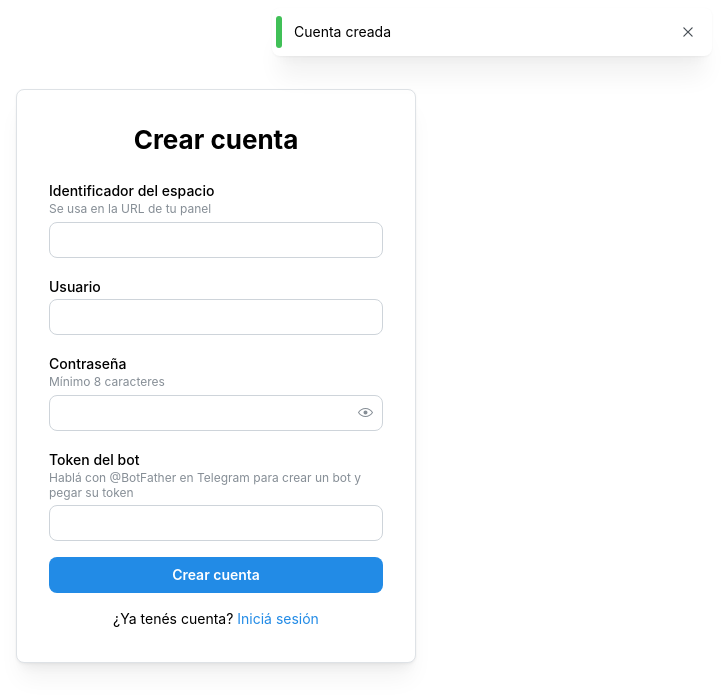
SignupPage › 409 que menciona slug muestra el error junto al campo slug
Step 1. Type "acme" into the field labelled "Identificador del espacio" → (216, 240), box [49,222,383,258]
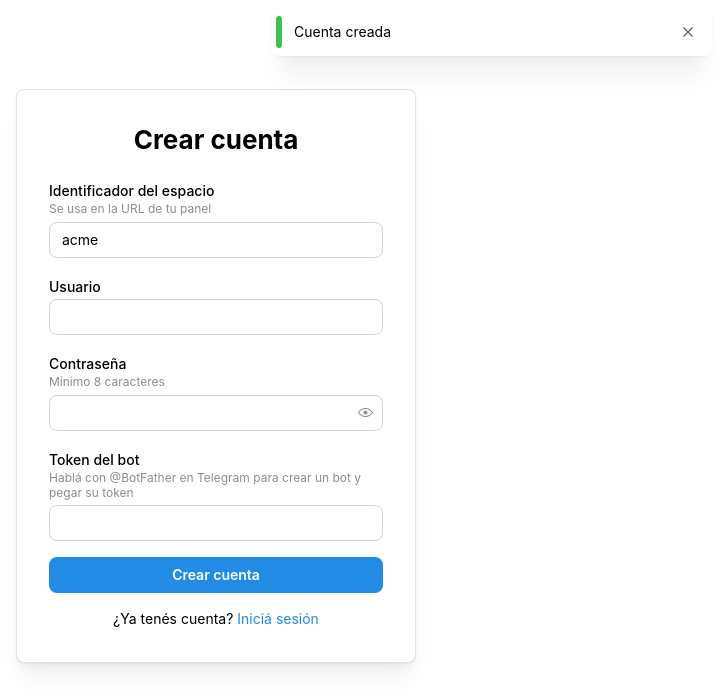
Step 2. Type "juan" into the field labelled "Usuario" → (216, 316), box [49,298,383,334]
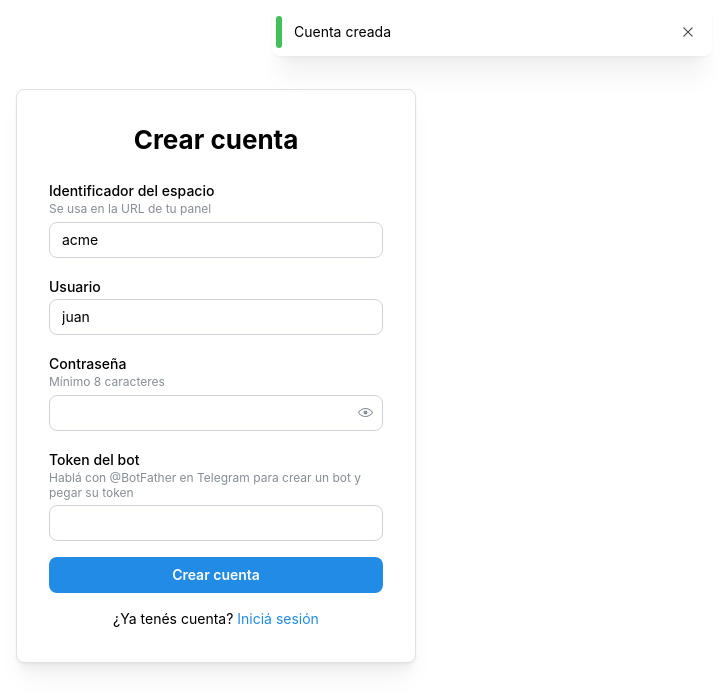
Step 3. Type "secreto123" into the password field labelled "Contraseña" → (216, 413), box [50,396,382,430]
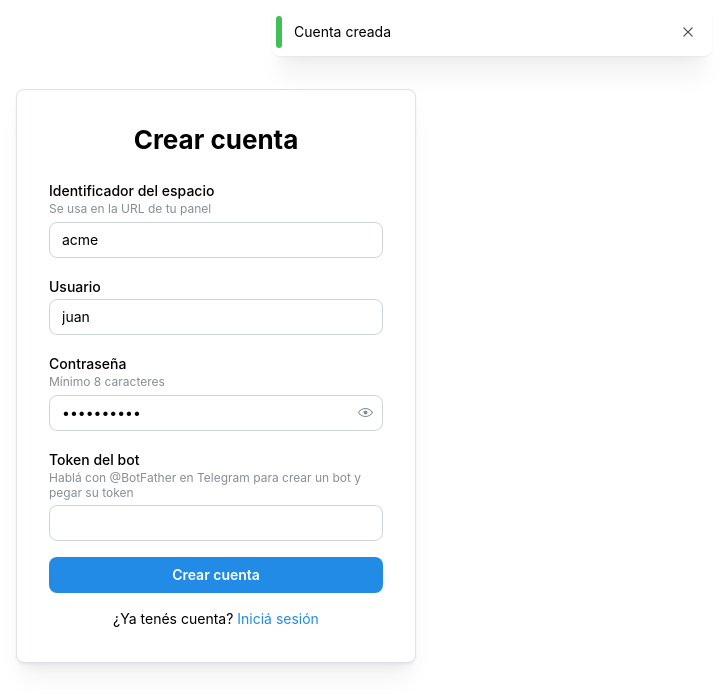
Step 4. Type "SIGNUP_BOT_TOKEN_EXAMPLE" into the field labelled "Token del bot" → (216, 523), box [49,505,383,541]
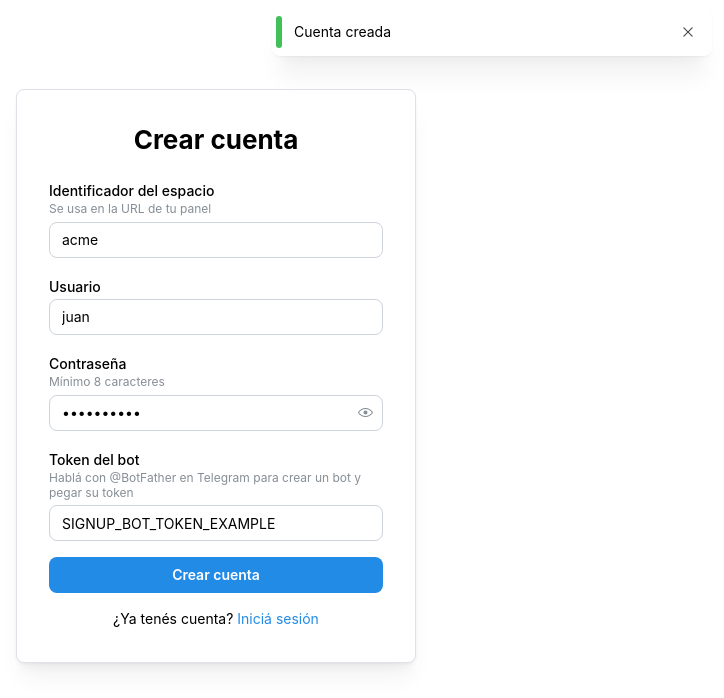
Step 5. Click the button "Crear cuenta" → (216, 575), box [49,557,383,593]
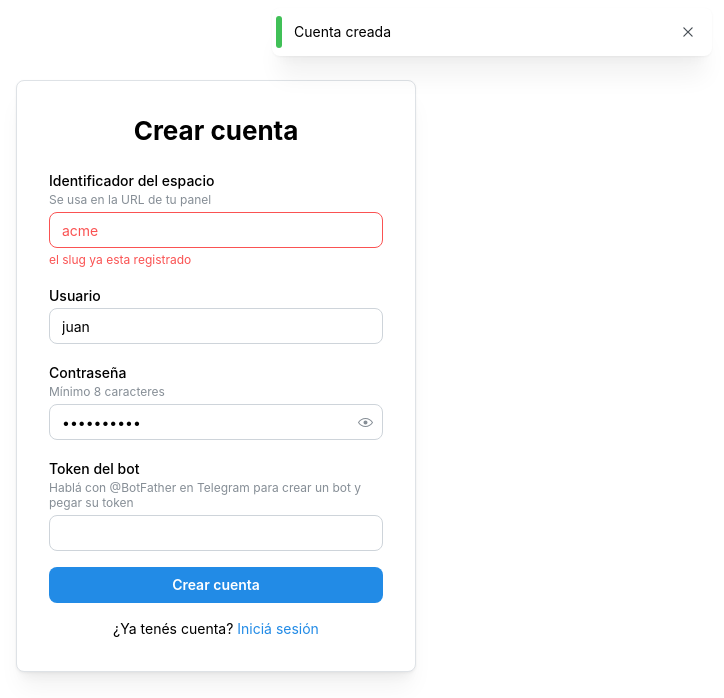
Expected: the field showing "SIGNUP_BOT_TOKEN_EXAMPLE" is not shown
Expected: the text "el slug ya esta registrado" is shown, [49,252,191,267]
